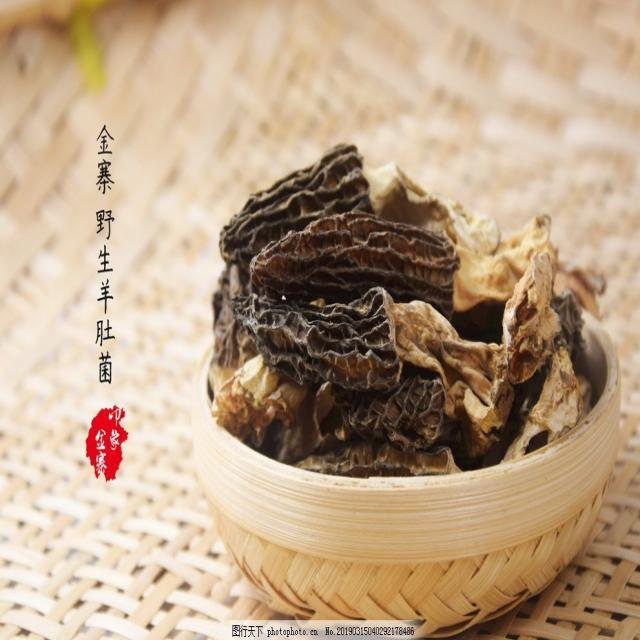Morchella esculenta: (205, 151, 606, 476)
